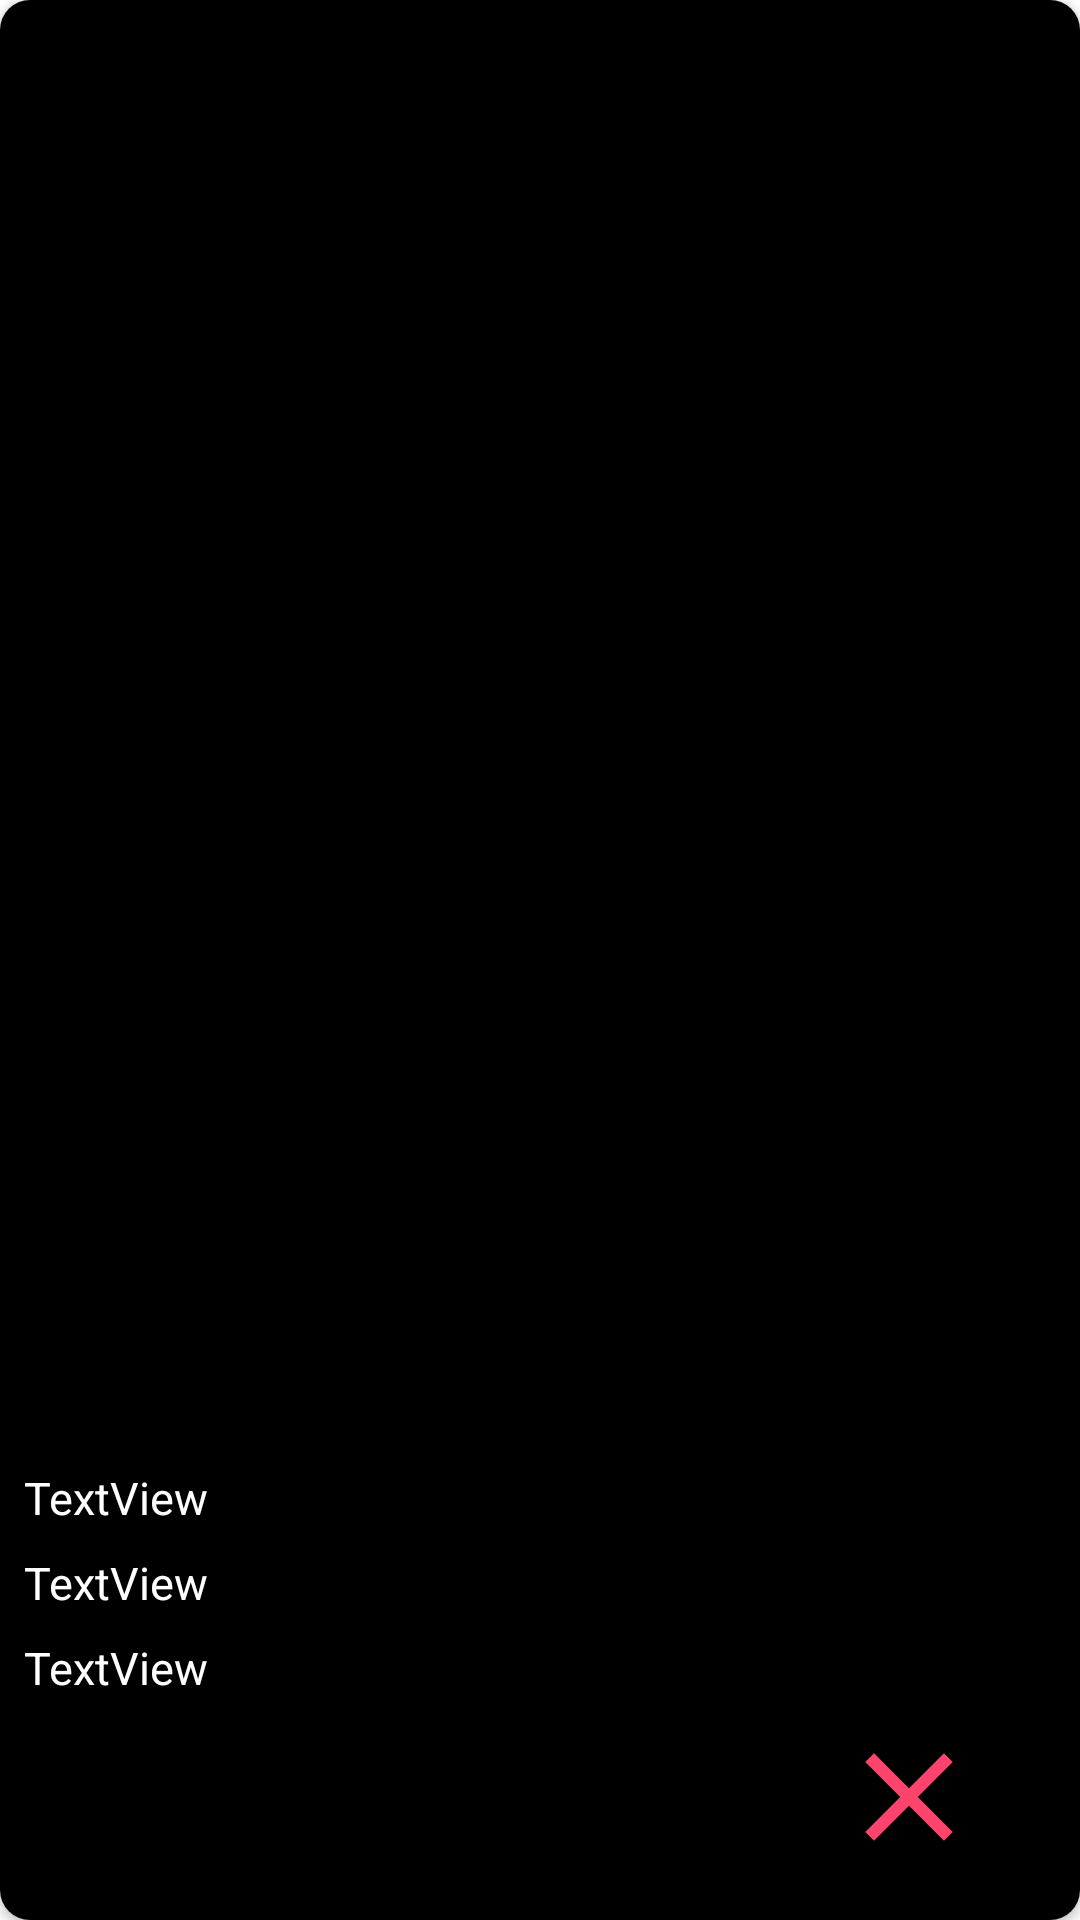

Icon click points for this 1080*1920 phone screenshot, format point (x, y):
reject: point (909, 1797)
